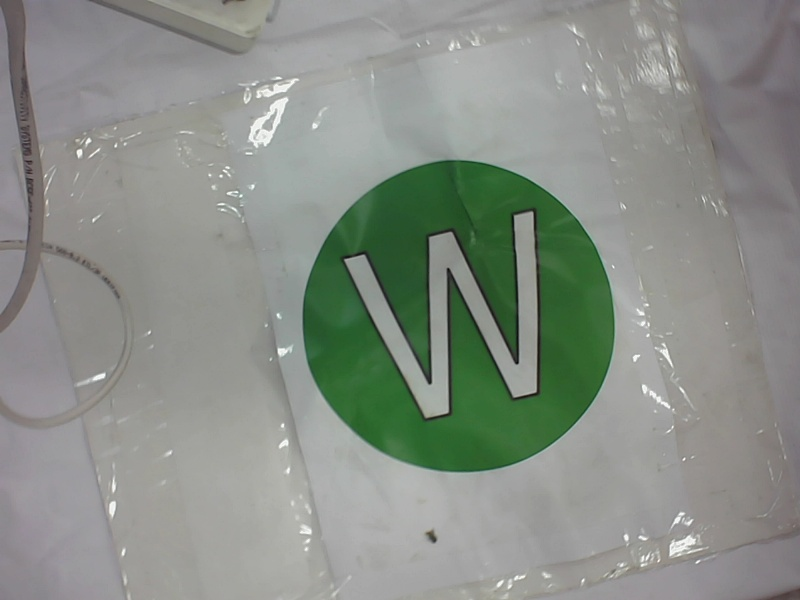areaB: (290, 158, 640, 484)
